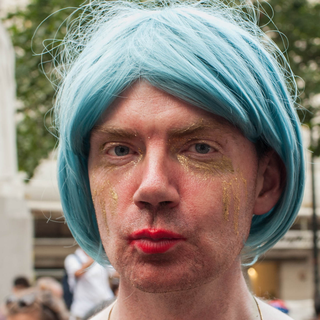eye: (176, 138, 223, 163), (100, 139, 142, 164)
